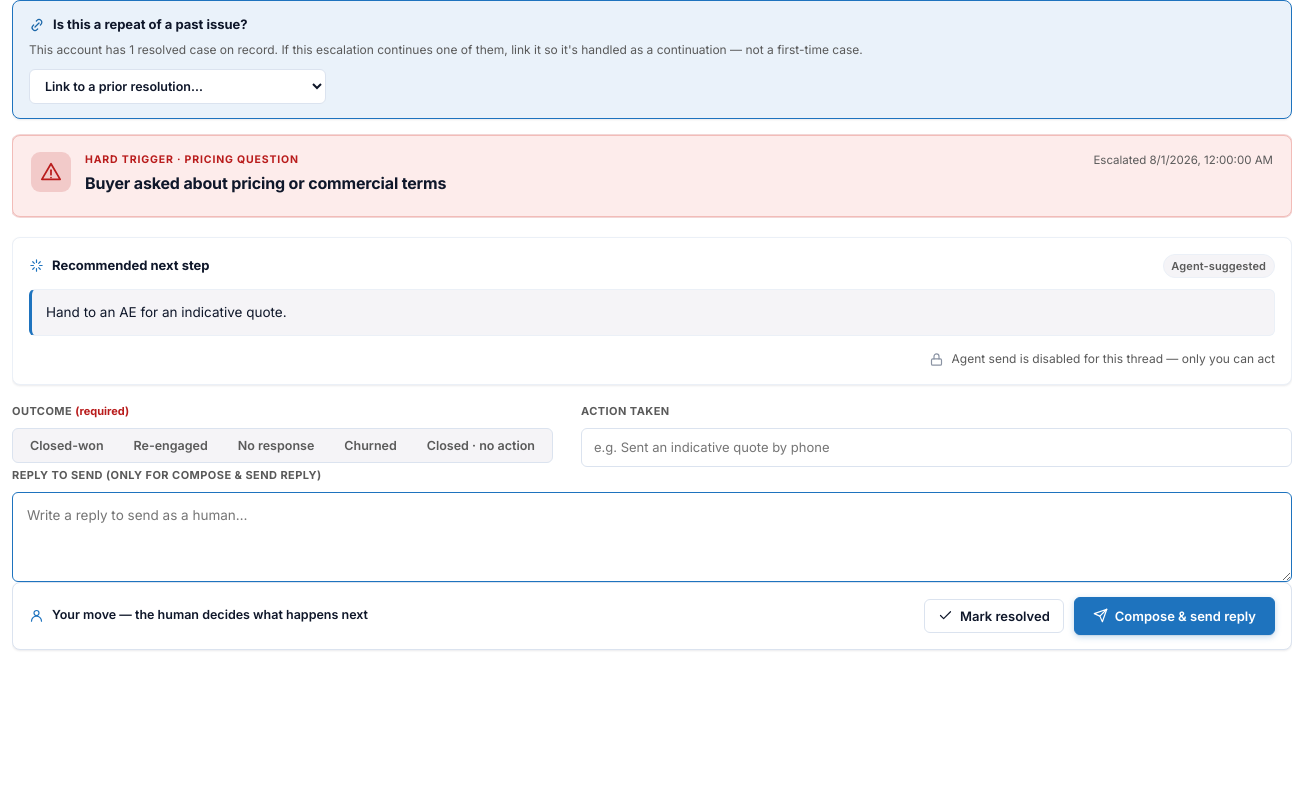
Test: EscalationPanel › marks resolved once an outcome is supplied
This screenshot has width=1304, height=800.
Click the button "Re-engaged" at (171, 445), box [120,432,222,459]
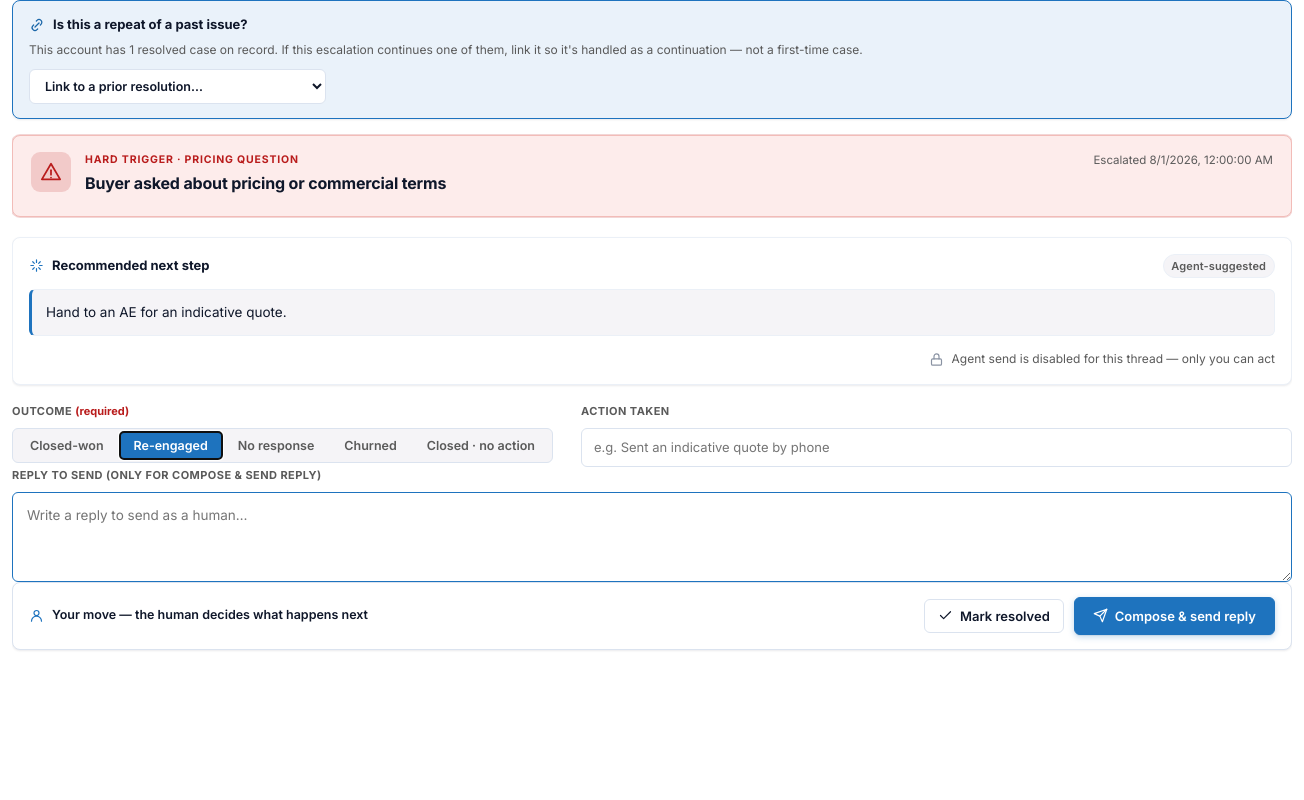
Type "Resolved by phone" into the field named "action taken" at (936, 447), box [581,428,1292,467]
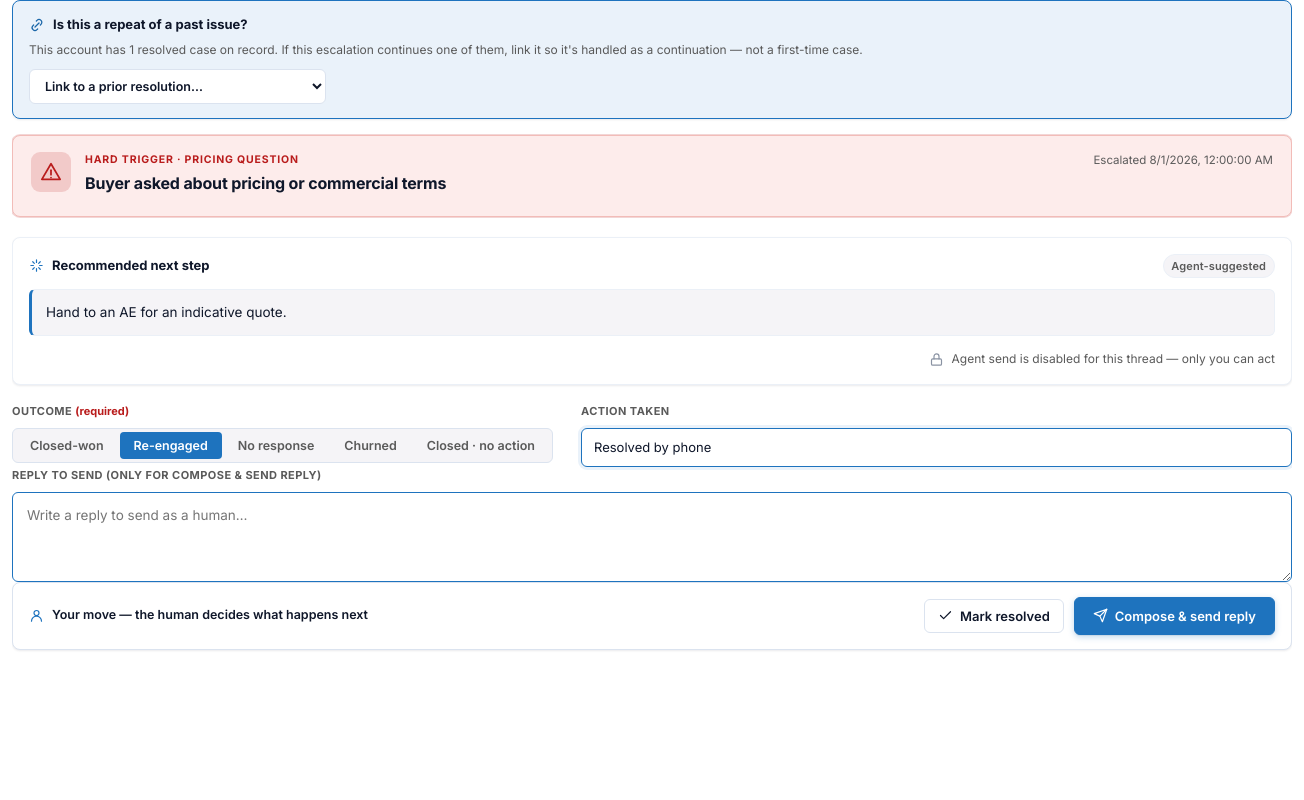
Click the button "Mark resolved" at (994, 616), box [924,599,1064,633]
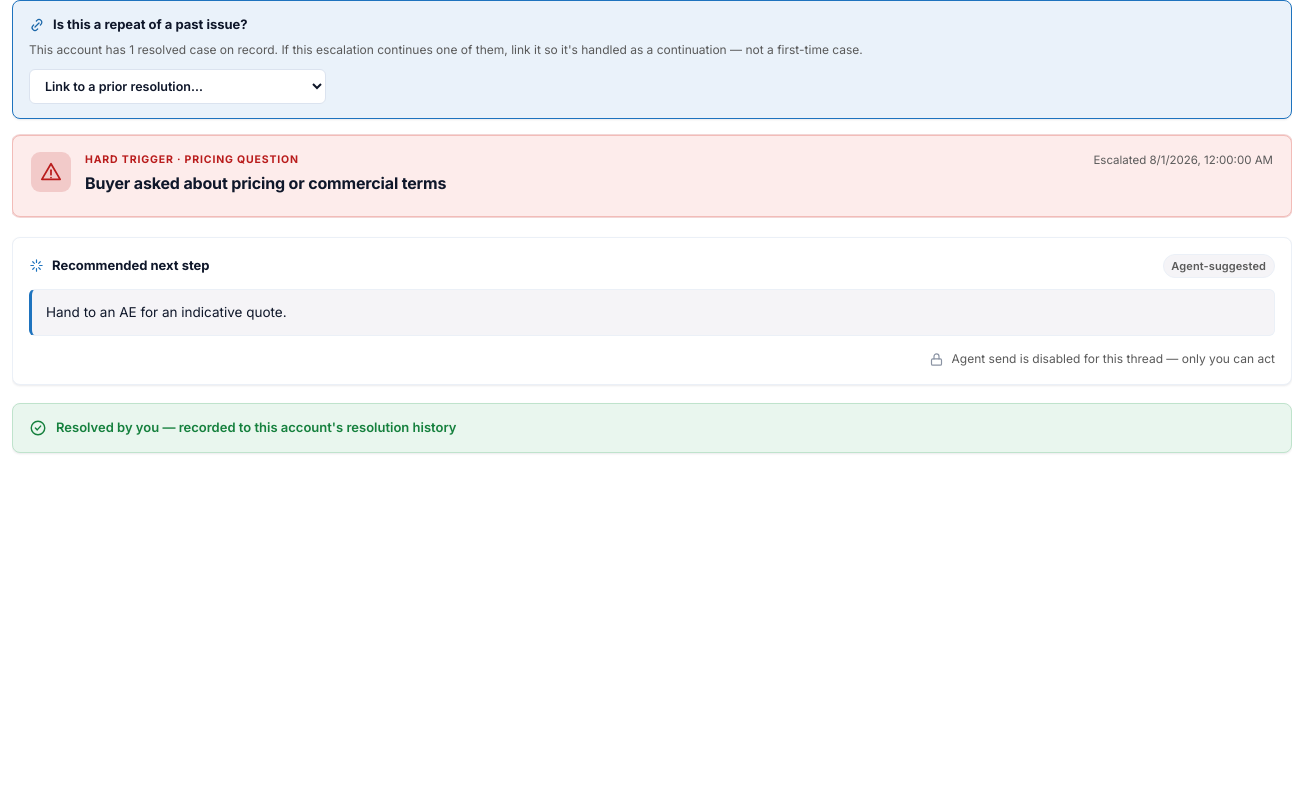
expect the text "Resolved by you" is shown: met, box [56,419,456,435]
